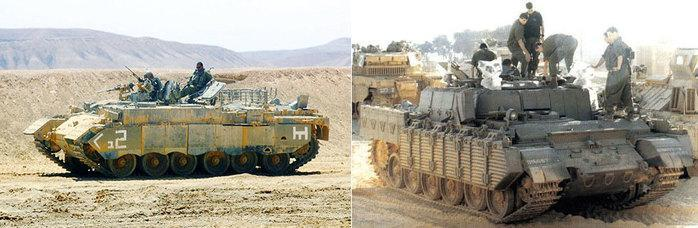MIL_IFV: (361, 65, 695, 224), (23, 62, 331, 183)
